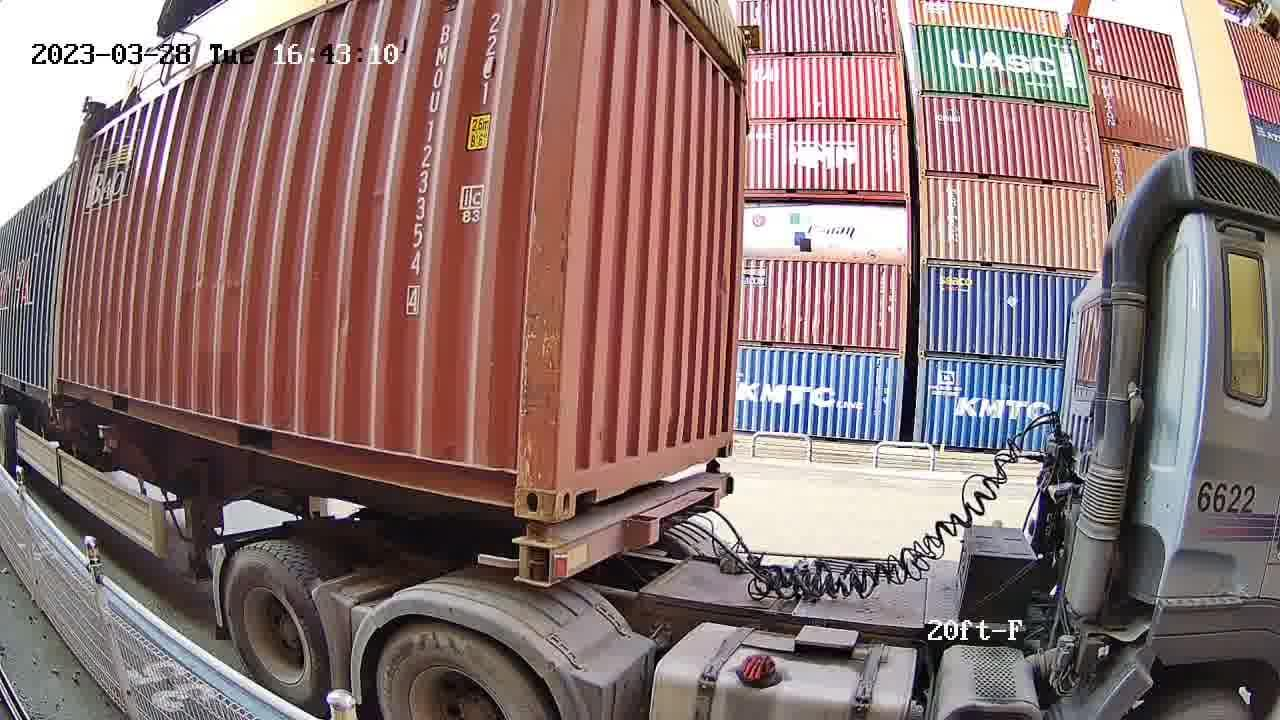Chassis: (517, 471, 729, 585)
Cone: (517, 521, 557, 583), (701, 462, 722, 479)
Hole_L: (553, 436, 610, 520)
Hole_R: (481, 439, 556, 523), (705, 416, 735, 462)
Tire: (224, 547, 328, 711), (378, 627, 543, 717)
